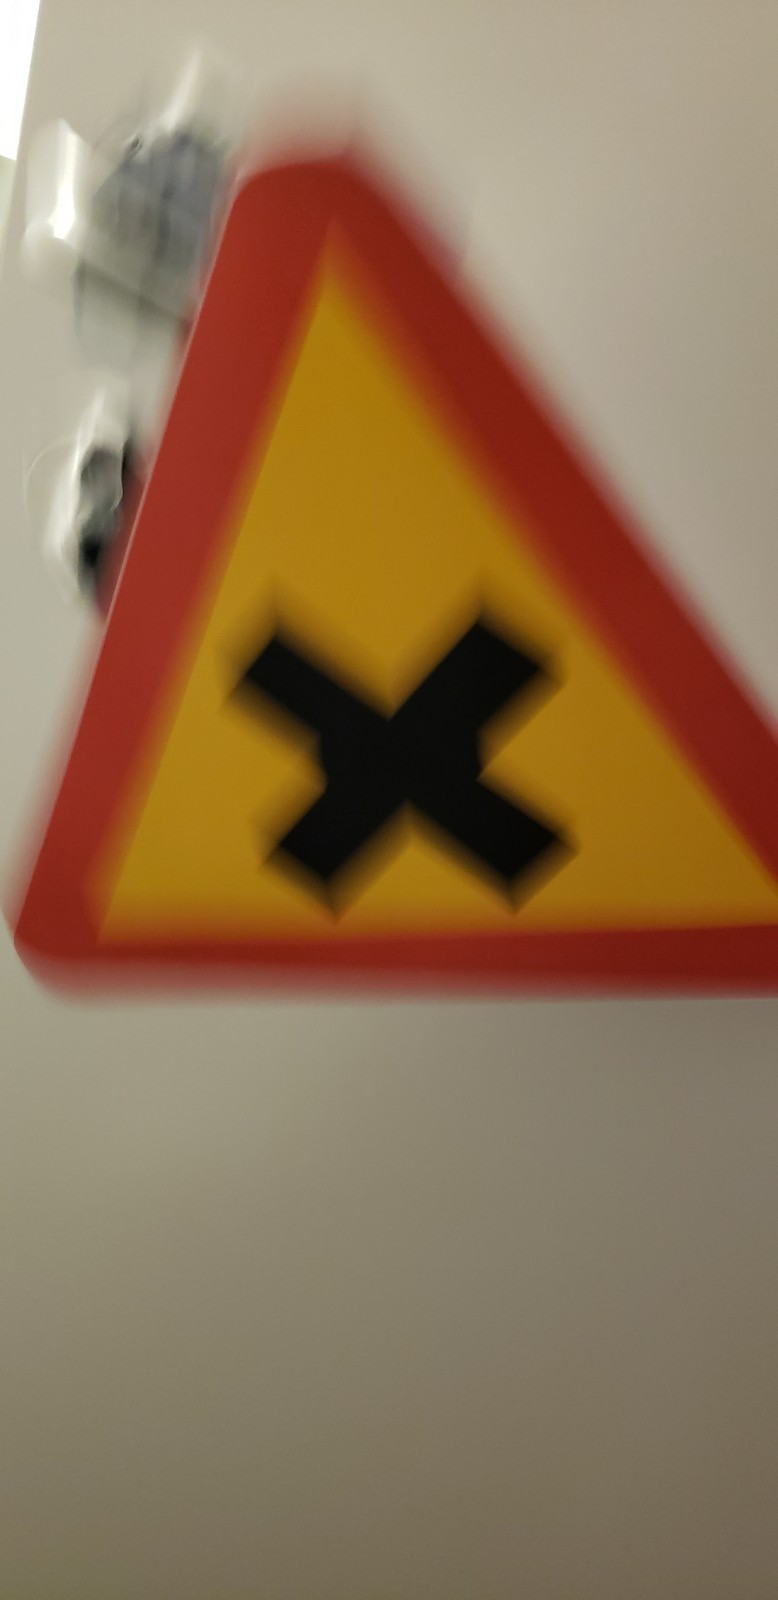junction: (53, 110, 778, 1077)
